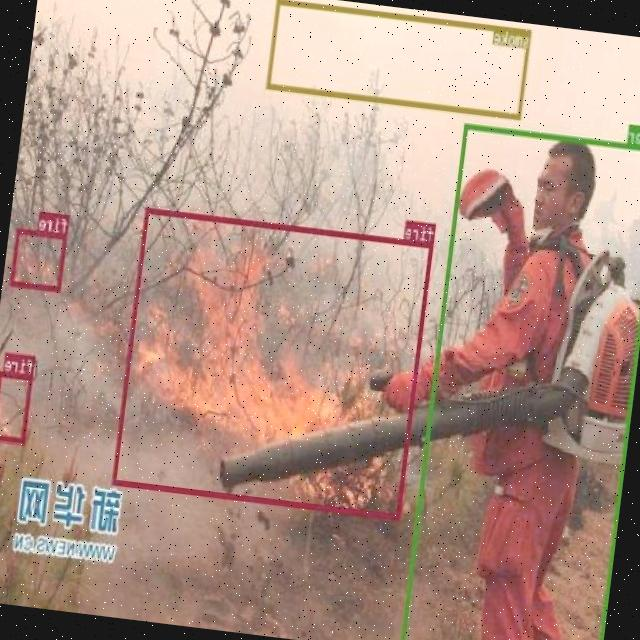fire: (112, 206, 434, 518), (11, 228, 68, 291), (0, 369, 35, 441)
smoke: (267, 0, 532, 119)
